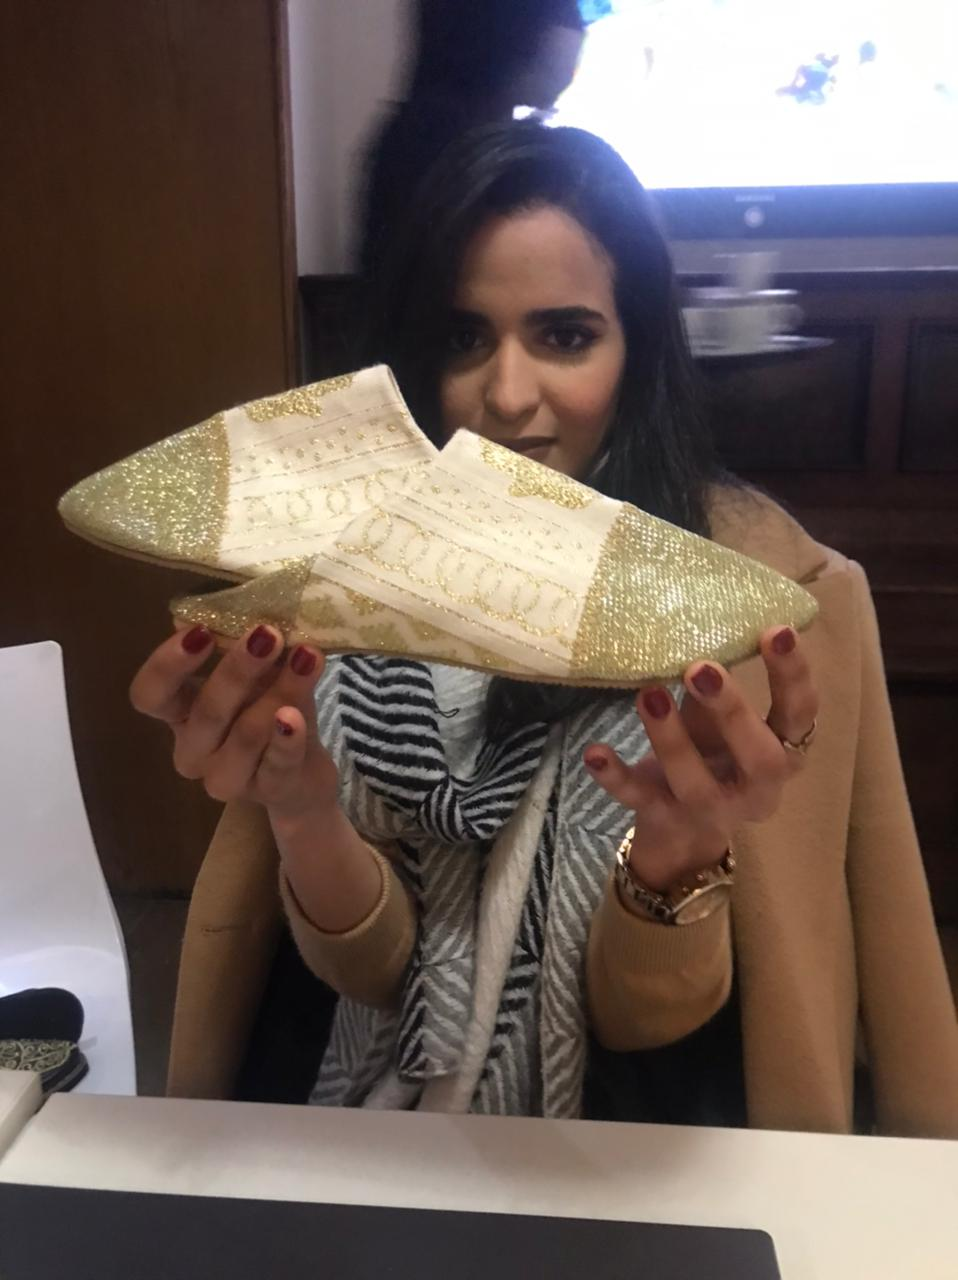balgha: (59, 383, 880, 741)
